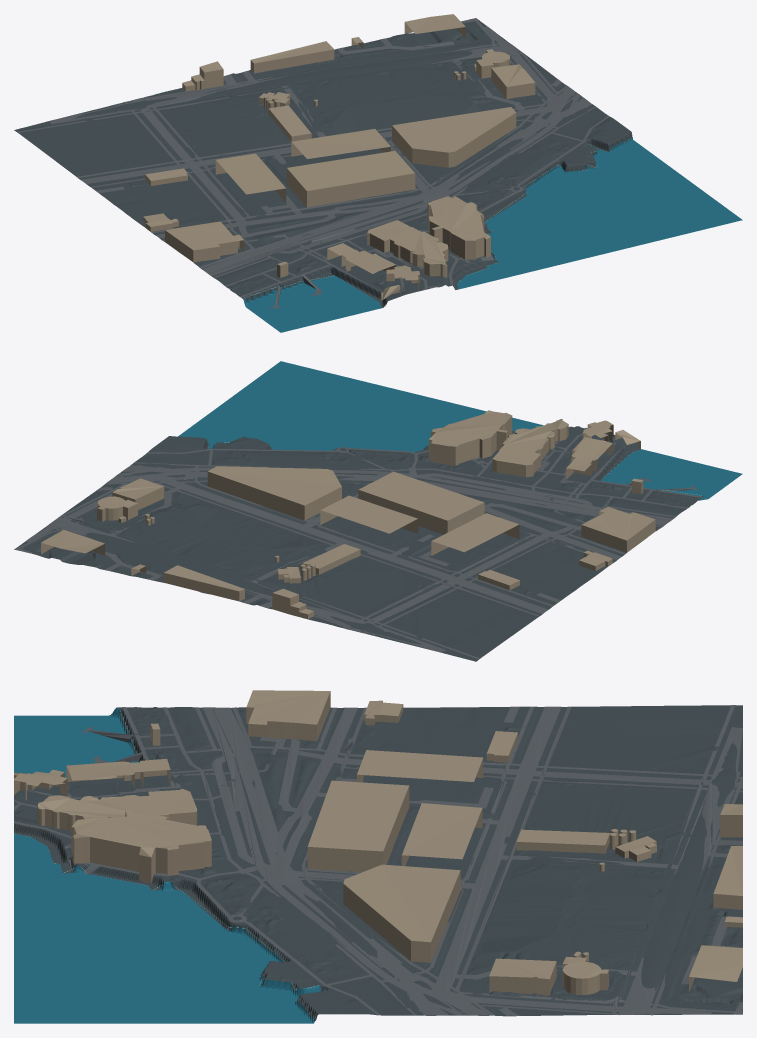
Rendered from epsg26910-1437-10897.lod0.glb.
3 renders of one model, top to bottom at view 1: azimuth 30°, elevation 25°; view 2: azimuth 150°, elevation 25°; view 3: azimuth 270°, elevation 25°, orthographic. The views are drawn at different scales.
Visible parts, largest first — view 1: epsg26910-1437-10897-lod0; view 2: epsg26910-1437-10897-lod0; view 3: epsg26910-1437-10897-lod0.
Part boxes in pixels (x1,y1,x2,y2): epsg26910-1437-10897-lod0: [14, 14, 742, 332]; epsg26910-1437-10897-lod0: [14, 361, 742, 661]; epsg26910-1437-10897-lod0: [14, 690, 742, 1023].
Size of the model in its own units: 384 by 21.19 by 384.
